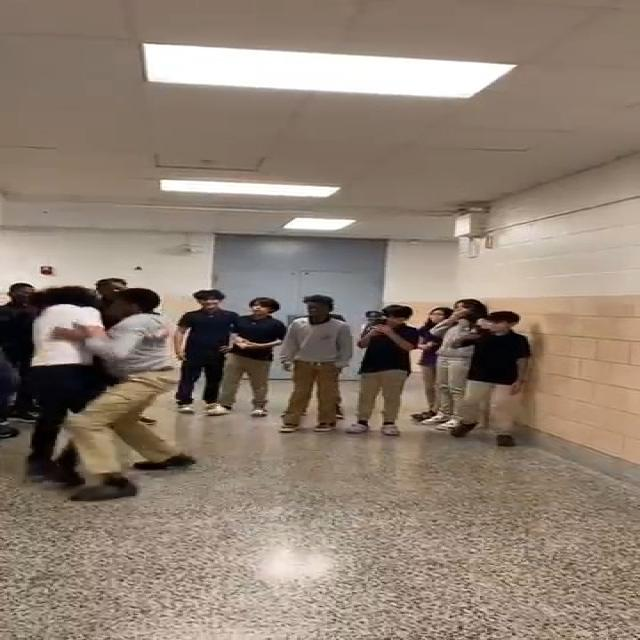fight: (24, 284, 198, 502)
